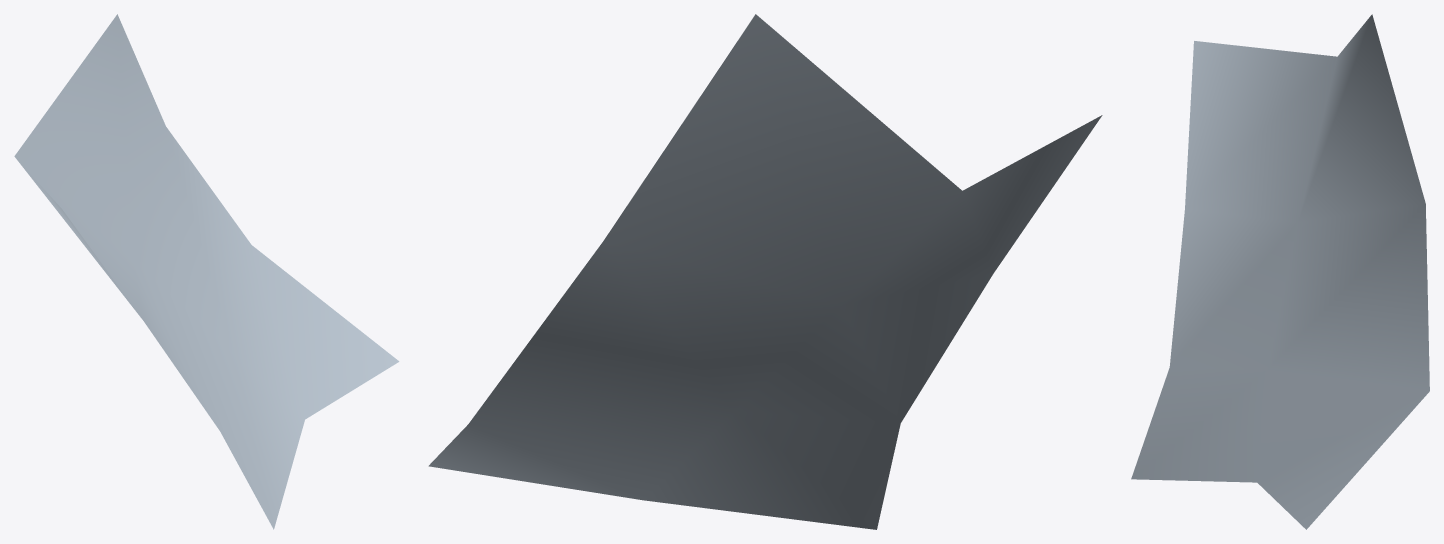
The model's file is posterior-sternoclavicular-ligament-r.glb.
3 renders of one model, left to right at view 1: azimuth 30°, elevation 25°; view 2: azimuth 150°, elevation 25°; view 3: azimuth 270°, elevation 25°, orthographic. The views are drawn at different scales.
Parts seen in each view (by area): view 1: Posterior sternoclavicular ligament.r; view 2: Posterior sternoclavicular ligament.r; view 3: Posterior sternoclavicular ligament.r.
Boxes of the visible parts, bbox=[...] form: Posterior sternoclavicular ligament.r: bbox=[14, 14, 399, 529]; Posterior sternoclavicular ligament.r: bbox=[428, 14, 1102, 529]; Posterior sternoclavicular ligament.r: bbox=[1131, 14, 1429, 529].
Size of the model in its own units: 0.0186 by 0.0198 by 0.012.
